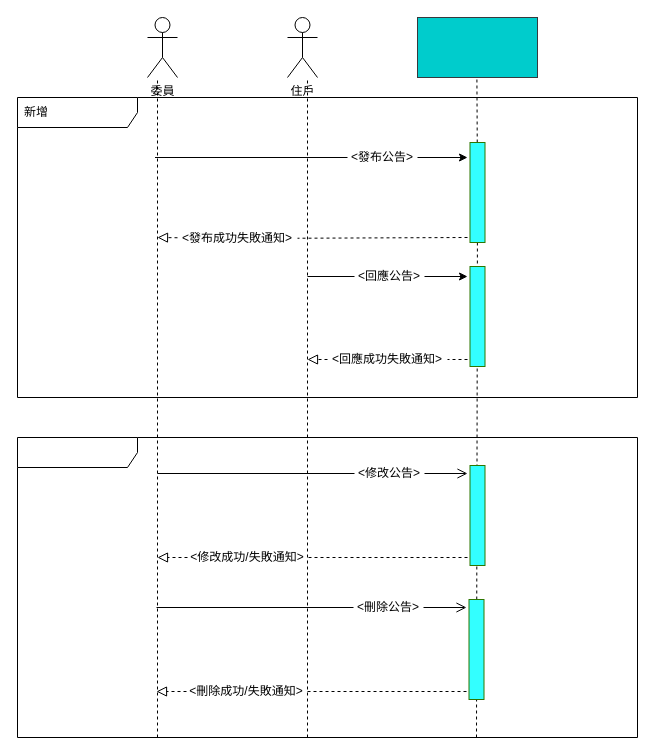
Image size: 655x756. Some labels were removed from this diagram. Each missing label, with the centre of its shape:
APP: point (477, 47)
修改: point (327, 587)
